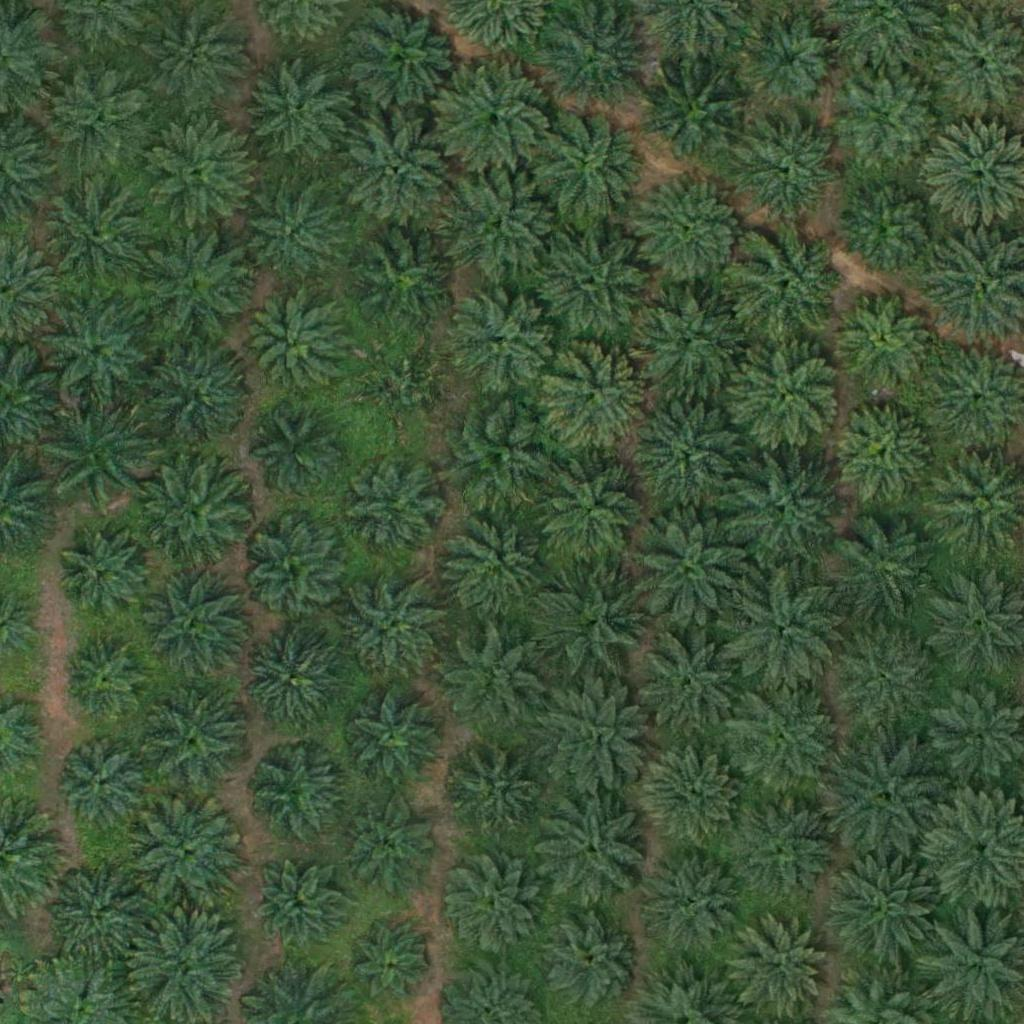Kelapa_Sawit: (642, 56, 755, 170), (527, 108, 640, 222), (634, 174, 747, 288), (732, 227, 845, 341), (729, 338, 842, 452), (830, 510, 943, 624), (342, 2, 455, 115), (40, 401, 153, 514), (341, 117, 454, 230), (344, 223, 457, 336), (442, 405, 555, 518), (630, 287, 743, 400), (827, 623, 940, 736), (832, 742, 945, 855), (825, 854, 938, 967), (727, 454, 840, 567), (729, 576, 842, 689), (534, 678, 647, 791), (534, 794, 647, 907), (532, 906, 645, 1019), (138, 454, 251, 567), (136, 566, 249, 679), (142, 681, 255, 794), (126, 907, 238, 1021), (43, 857, 155, 971), (143, 1, 255, 114), (41, 177, 153, 290), (40, 292, 152, 405), (141, 116, 253, 229), (140, 231, 252, 344), (143, 342, 255, 455), (438, 63, 550, 176), (443, 167, 555, 280), (444, 285, 556, 398), (539, 226, 651, 339), (540, 341, 652, 454), (637, 394, 749, 507), (730, 682, 842, 795), (728, 795, 840, 908), (635, 513, 747, 626), (632, 624, 744, 737), (535, 457, 647, 570), (538, 572, 650, 685), (340, 572, 452, 685), (135, 797, 247, 910), (740, 11, 840, 112), (50, 64, 150, 165), (249, 58, 349, 159), (238, 183, 338, 284), (247, 303, 347, 404), (246, 400, 346, 501), (840, 66, 940, 167), (841, 176, 941, 277), (731, 914, 831, 1015), (639, 746, 739, 847), (644, 852, 744, 953), (442, 516, 542, 617), (439, 629, 539, 730), (441, 742, 541, 843), (349, 455, 449, 556), (342, 689, 442, 790), (244, 519, 344, 620), (239, 624, 339, 725), (245, 738, 345, 839), (52, 735, 152, 836), (743, 116, 843, 216), (839, 291, 939, 391), (835, 403, 935, 503), (442, 858, 542, 958), (340, 794, 440, 894), (59, 532, 147, 620), (62, 638, 150, 726), (365, 347, 452, 436), (253, 860, 340, 948), (352, 926, 427, 1002)
